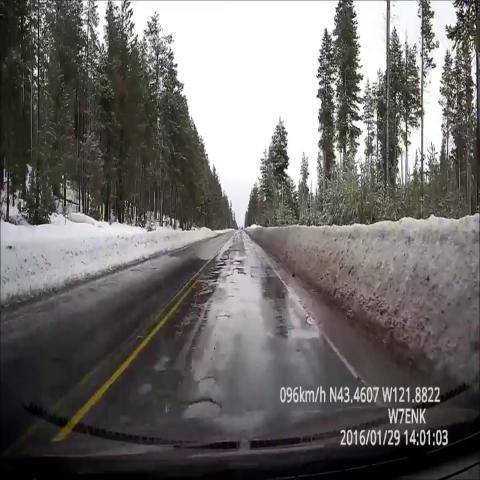pothole: (177, 384, 230, 429), (175, 305, 204, 338), (210, 302, 235, 337), (194, 366, 220, 395), (155, 346, 173, 379), (137, 376, 160, 401), (205, 257, 228, 282), (300, 303, 321, 330), (195, 280, 218, 302), (227, 264, 249, 283), (118, 412, 138, 430), (228, 246, 246, 256)
